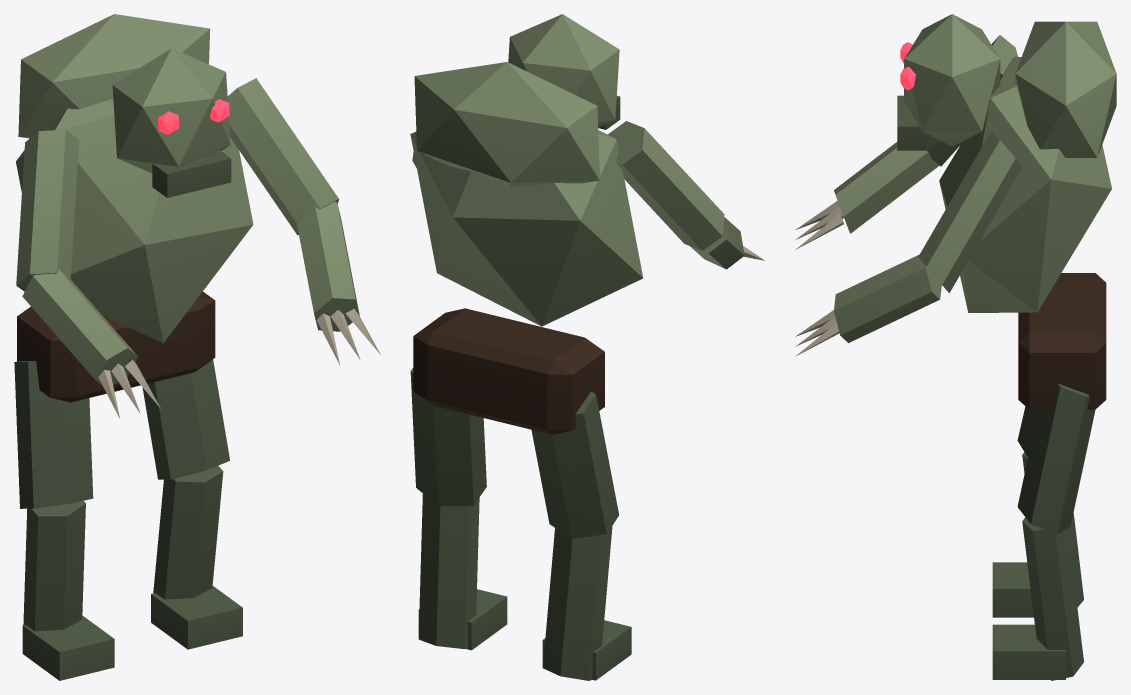
The model's file is enemy_ghoul.glb.
3 renders of one model, left to right at view 1: azimuth 30°, elevation 25°; view 2: azimuth 150°, elevation 25°; view 3: azimuth 270°, elevation 25°, orthographic. The views are drawn at different scales.
Parts seen in each view (by area): view 1: enemy_ghoul; view 2: enemy_ghoul; view 3: enemy_ghoul.
Part boxes in pixels (x1,y1,x2,y2): enemy_ghoul: [14, 14, 380, 680]; enemy_ghoul: [410, 14, 764, 680]; enemy_ghoul: [795, 14, 1116, 680].
Size of the model in its own units: 0.8 by 1.5 by 0.7.
